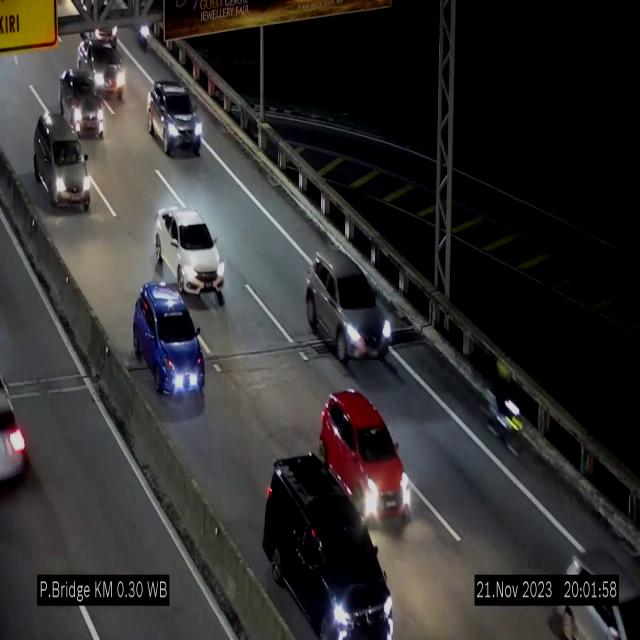Car: (264, 454, 395, 639), (319, 390, 412, 523), (301, 247, 389, 373), (133, 281, 205, 398), (153, 207, 225, 306), (34, 113, 90, 212), (54, 60, 106, 143), (147, 80, 202, 156), (77, 34, 127, 100)
Motorcycle: (491, 360, 521, 456)
